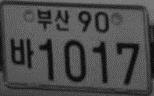0: (63, 39, 87, 82), (94, 10, 110, 33)
1: (36, 37, 61, 80), (90, 40, 114, 84)
7: (115, 41, 139, 85)
9: (77, 9, 93, 33)
바: (10, 37, 34, 68)
부산_H: (36, 8, 71, 32)
